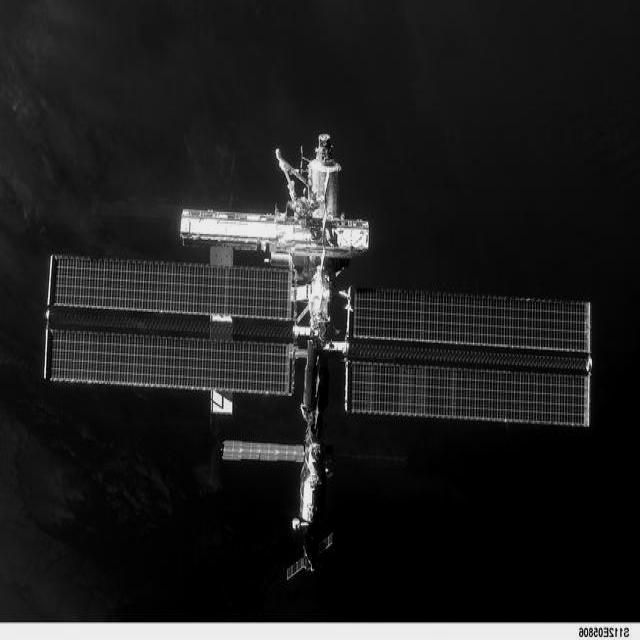medium_debris: (44, 134, 591, 578), (338, 451, 401, 463)
